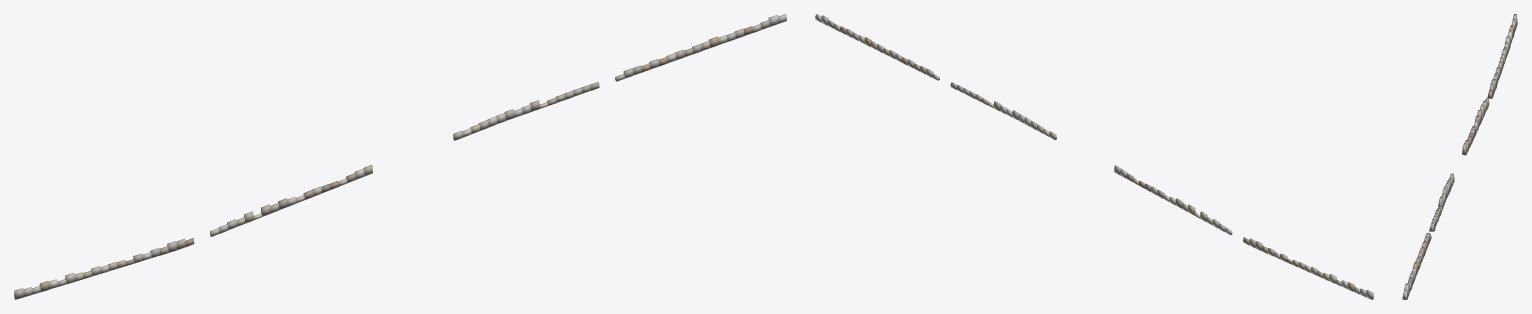
The model's file is farm_-2_7_collision.glb.
3 views of the same model, side by side, from view 1: azimuth 90°, elevation 25°; view 2: azimuth 210°, elevation 25°; view 3: azimuth 330°, elevation 25° (orthographic). The views are drawn at different scales.
Parts seen in each view (by area): view 1: geometry_0; view 2: geometry_0; view 3: geometry_0.
Boxes of the visible parts, bbox=[...] form: geometry_0: bbox=[14, 14, 786, 299]; geometry_0: bbox=[815, 14, 1373, 299]; geometry_0: bbox=[1402, 14, 1517, 299].
Size of the model in its own units: 59.41 by 26.61 by 133.
